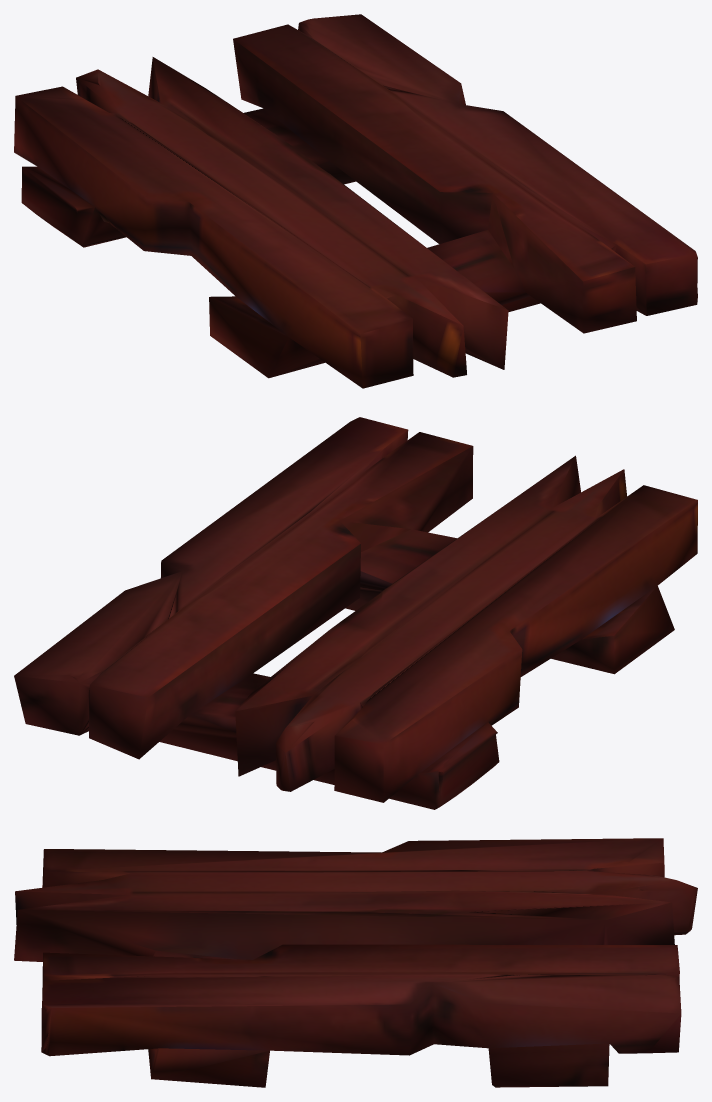
File: mod-tent1-prop4.fbx
3 views of the same model, one above another, from view 1: azimuth 30°, elevation 25°; view 2: azimuth 150°, elevation 25°; view 3: azimuth 270°, elevation 25° (orthographic). The views are drawn at different scales.
Visible parts, largest first — view 1: texture_pbr_v128; view 2: texture_pbr_v128; view 3: texture_pbr_v128.
Part boxes in pixels (bbox=[...]): texture_pbr_v128: bbox=[14, 14, 697, 388]; texture_pbr_v128: bbox=[14, 417, 697, 809]; texture_pbr_v128: bbox=[14, 838, 697, 1087].
Size of the model in its own units: 15.06 by 3 by 23.01.
1 material, 1 textured.
